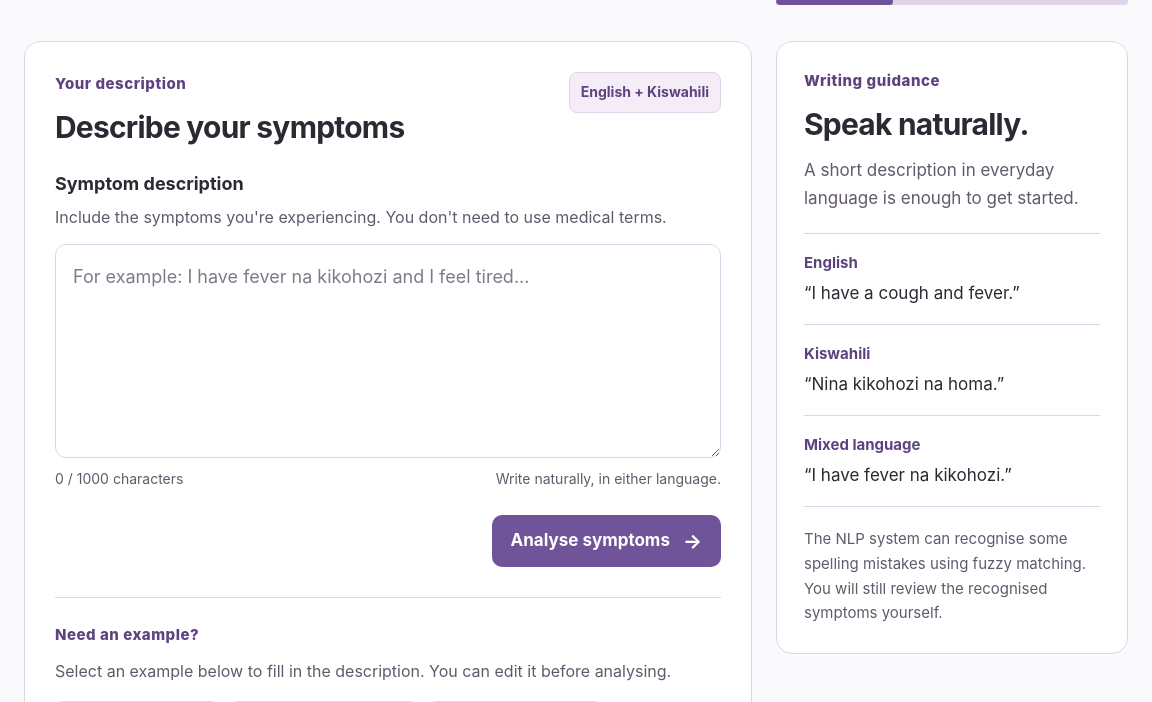
Test case: SymptomInputPage › shows urgent guidance before confirmation and does not offer the questionnaire
(page scrolled)
Type "Nashindwa kupumua" into the text box labelled "Symptom description". click: (388, 351)
box: [55,244,721,458]
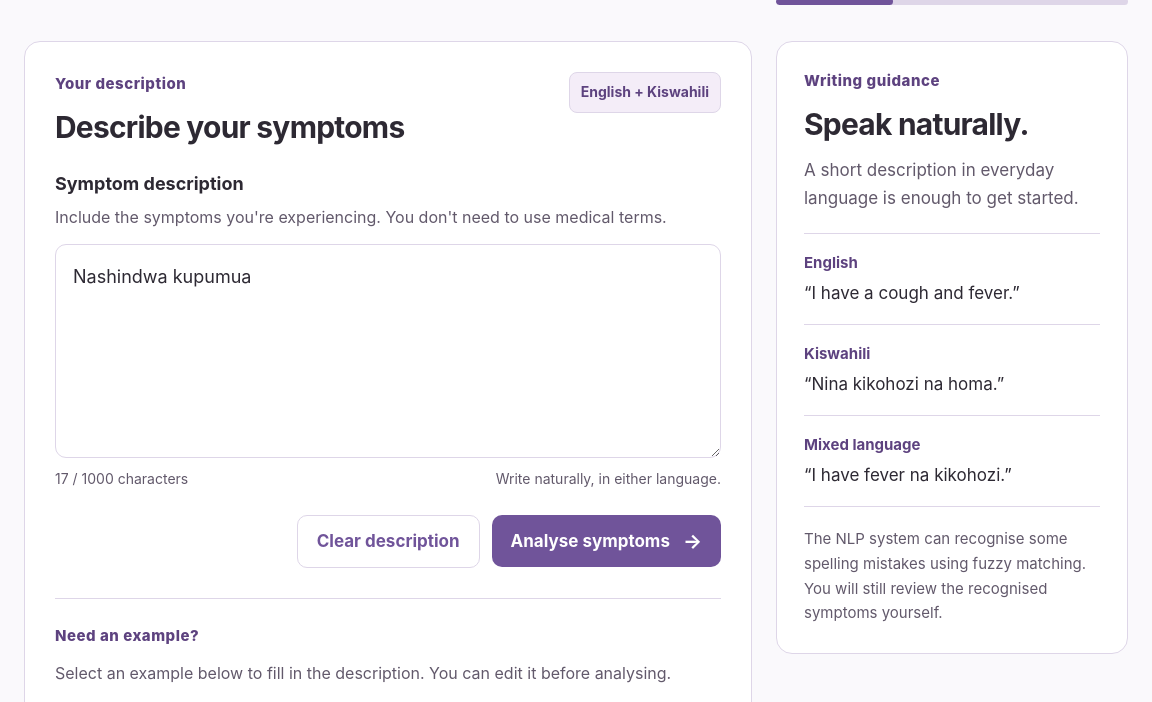
Click the button "Analyse symptoms →". click: (606, 541)
box: [492,515,721,567]
(page scrolled)
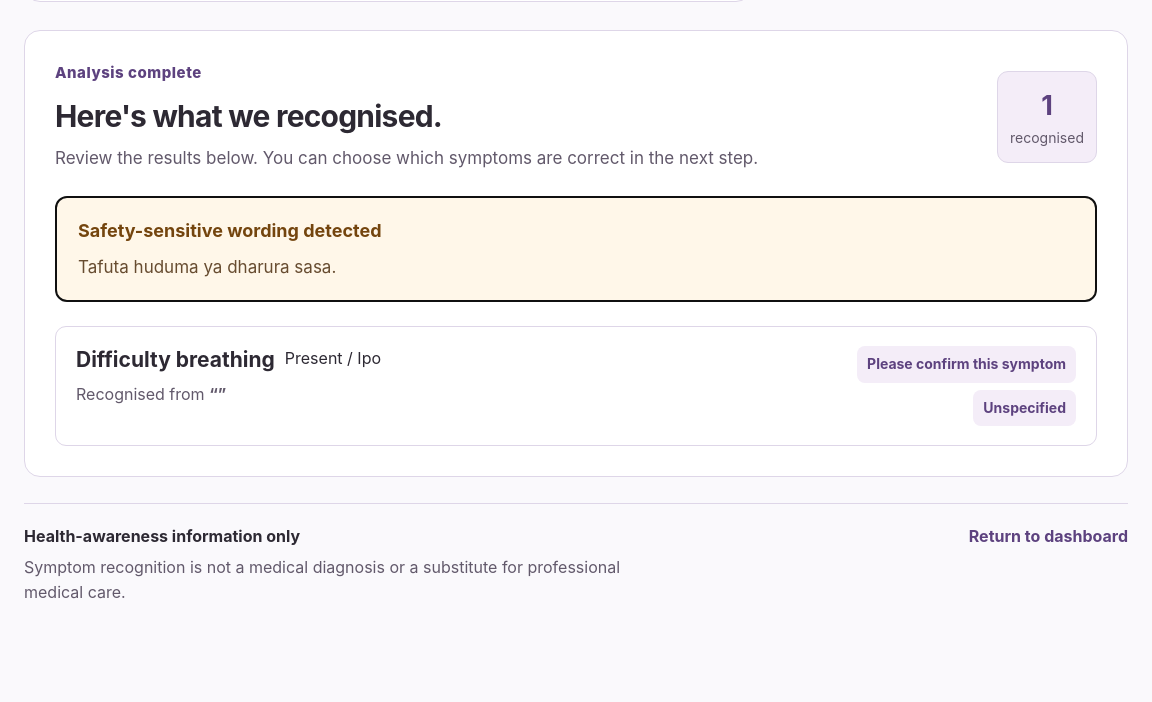
expect the message shows "Tafuta huduma ya dharura sasa.": met, box [78,257,336,277]
